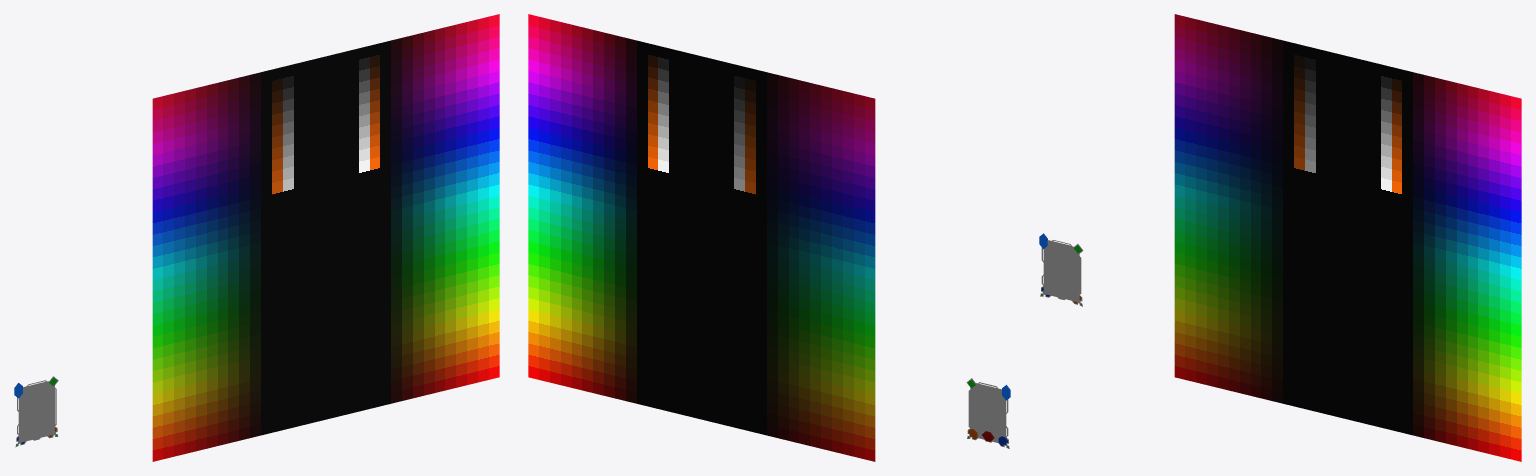
Rendered from tcg-card-border-R1.glb.
3 views of the same model, side by side, from view 1: azimuth 30°, elevation 25°; view 2: azimuth 150°, elevation 25°; view 3: azimuth 330°, elevation 25° (orthographic).
Visible parts, largest first — view 1: Palette Sample, Rev 3; view 2: Palette Sample, Rev 3; view 3: Palette Sample, Rev 3.
Boxes of the visible parts, x1=… form: Palette Sample: x1=152, y1=14, x2=499, y2=461; Rev 3: x1=14, y1=376, x2=58, y2=447; Palette Sample: x1=528, y1=14, x2=875, y2=461; Rev 3: x1=966, y1=378, x2=1010, y2=448; Palette Sample: x1=1174, y1=14, x2=1521, y2=461; Rev 3: x1=1039, y1=233, x2=1083, y2=306.
Size of the model in its own units: 28.71 by 20.6 by 0.2111.
1 material, 1 textured.
